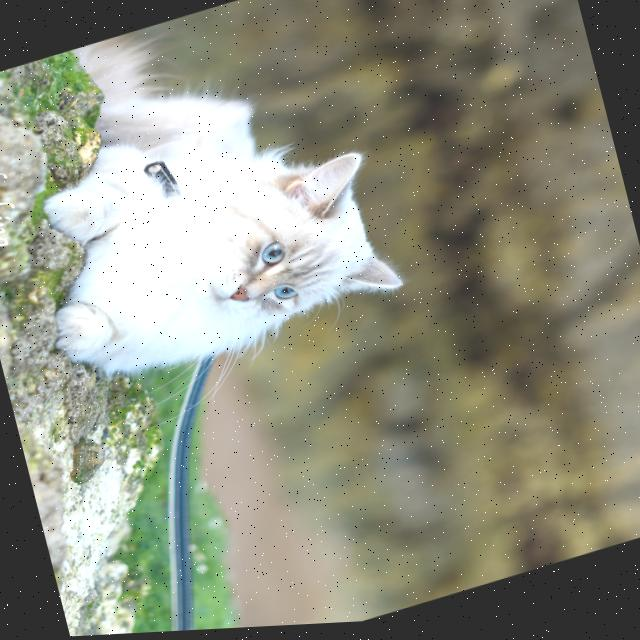Neva Masquerade: (0, 0, 411, 406)
